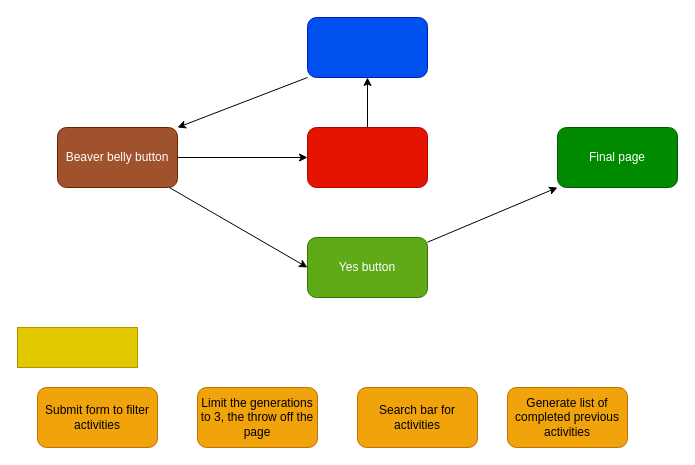
The diagram is 695 pixels wide and 465 high, and some of its shapes have lost their labels. Each missing label, with the centre of its shape:
App: (367,47)
Extra features: (77,347)
No button: (367,157)
